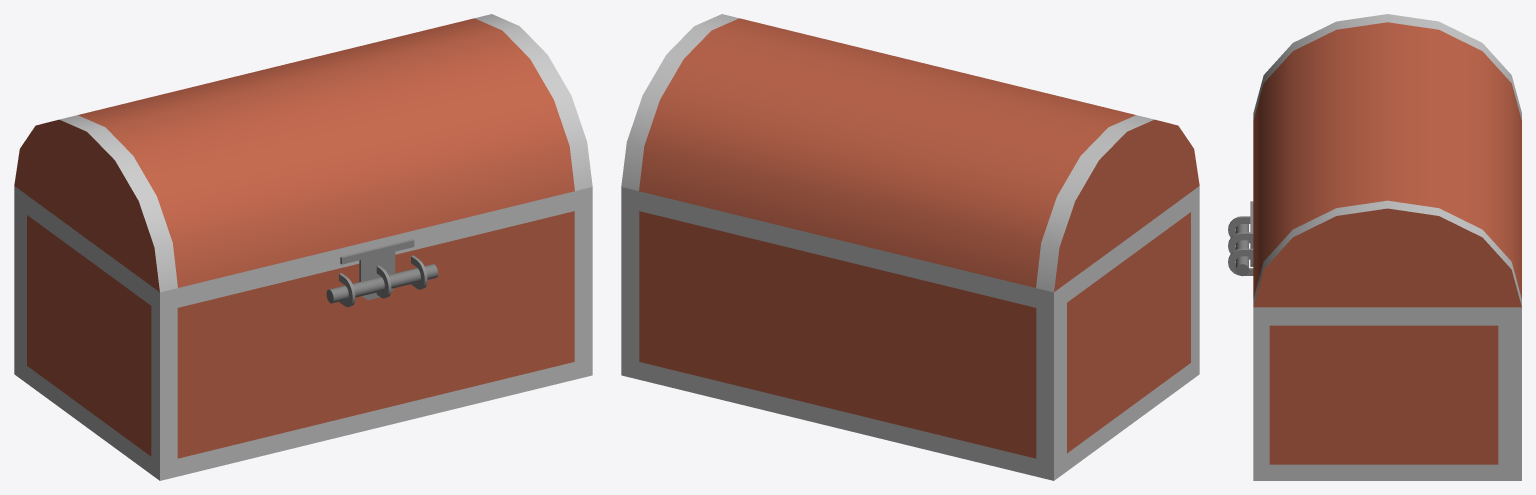
File: truhe_chest1.fbx
3 views of the same model, side by side, from view 1: azimuth 30°, elevation 25°; view 2: azimuth 150°, elevation 25°; view 3: azimuth 270°, elevation 25° (orthographic). The views are drawn at different scales.
Visible parts, largest first — view 1: truhe:chest1; view 2: truhe:chest1; view 3: truhe:chest1.
Part boxes in pixels (bbox=[...]): truhe:chest1: bbox=[14, 14, 592, 480]; truhe:chest1: bbox=[621, 14, 1199, 480]; truhe:chest1: bbox=[1228, 14, 1521, 480].
Bounding box in the file's own units: 63.12 × 41.24 × 40.3.
